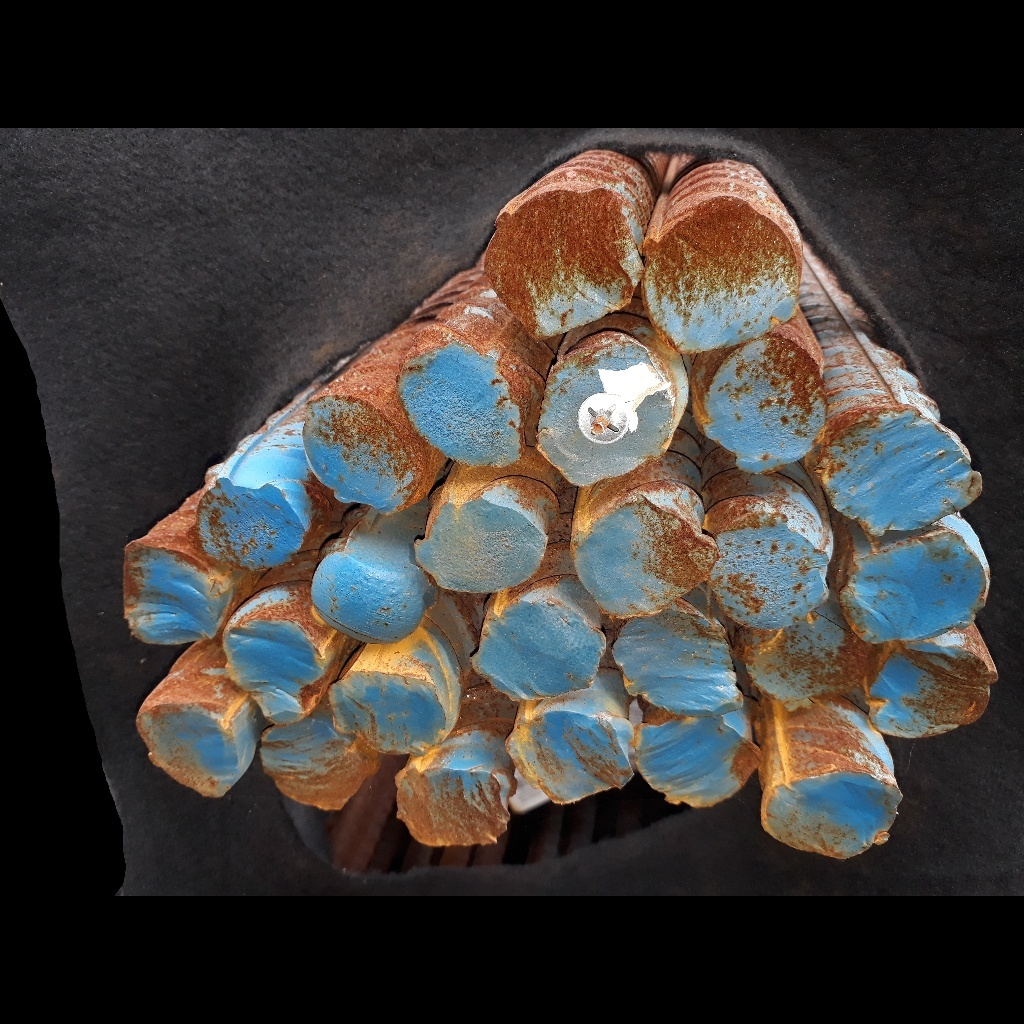dipstick: (648, 198, 797, 348), (488, 189, 633, 334), (538, 352, 675, 484), (822, 416, 973, 533), (577, 502, 715, 619), (843, 534, 991, 642), (704, 339, 819, 468), (402, 347, 521, 468), (615, 609, 741, 713), (764, 772, 902, 860), (482, 600, 607, 695), (714, 524, 829, 627), (305, 397, 411, 508), (423, 499, 548, 592), (869, 648, 997, 736), (635, 716, 759, 805), (512, 712, 633, 802), (329, 667, 452, 752), (134, 702, 240, 795), (124, 549, 229, 641), (225, 619, 324, 716), (263, 719, 364, 814), (744, 625, 865, 701), (203, 477, 305, 566), (391, 769, 509, 843), (313, 559, 421, 639)
